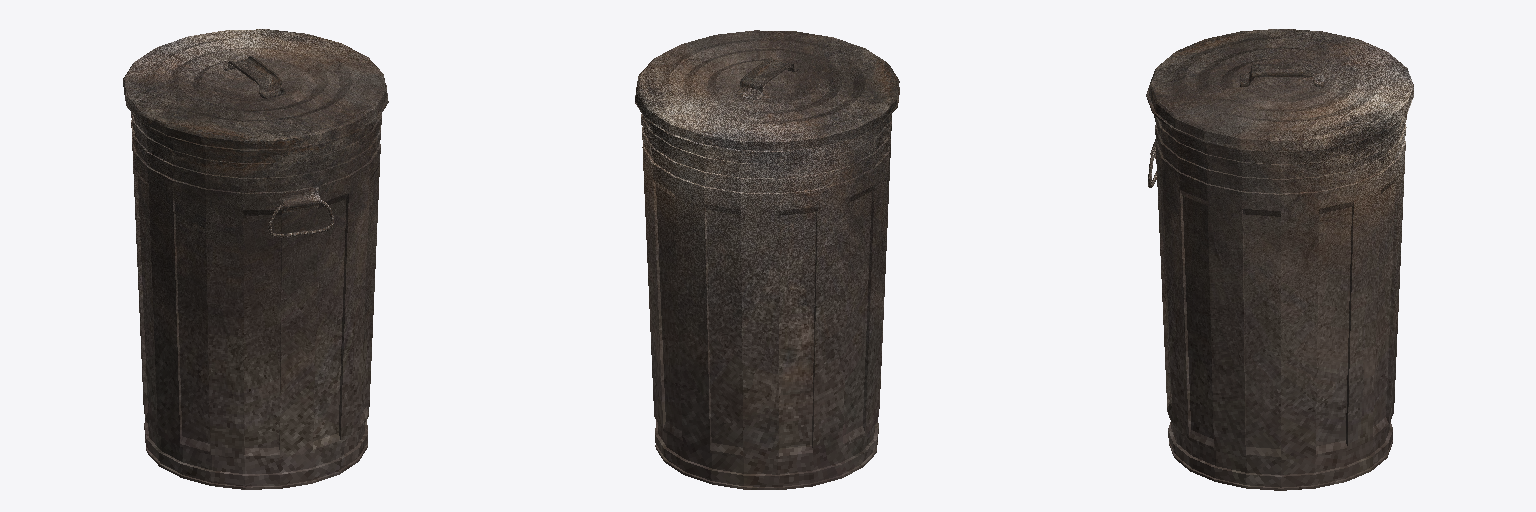
The picture shows the model from 3 angles: view 1: azimuth 30°, elevation 25°; view 2: azimuth 150°, elevation 25°; view 3: azimuth 270°, elevation 25°; orthographic projection.
Visible parts, largest first — view 1: Cylinder, Cylinder.008_Cylinder.009, Plane, Cylinder.007; view 2: Cylinder, Cylinder.008_Cylinder.009, Plane; view 3: Cylinder, Cylinder.008_Cylinder.009, Plane.
Boxes of the visible parts, <box> form: Cylinder: <box>131,112,381,489</box>; Cylinder.008_Cylinder.009: <box>123,29,388,151</box>; Plane: <box>223,56,285,98</box>; Cylinder.007: <box>282,191,320,212</box>; Cylinder: <box>641,114,891,489</box>; Cylinder.008_Cylinder.009: <box>635,30,899,151</box>; Plane: <box>736,57,798,99</box>; Cylinder: <box>1154,115,1406,490</box>; Cylinder.008_Cylinder.009: <box>1146,29,1413,152</box>; Plane: <box>1240,64,1323,86</box>.
Size of the model in its own units: 0.625 by 0.9676 by 0.6273.
2 materials, 1 textured.